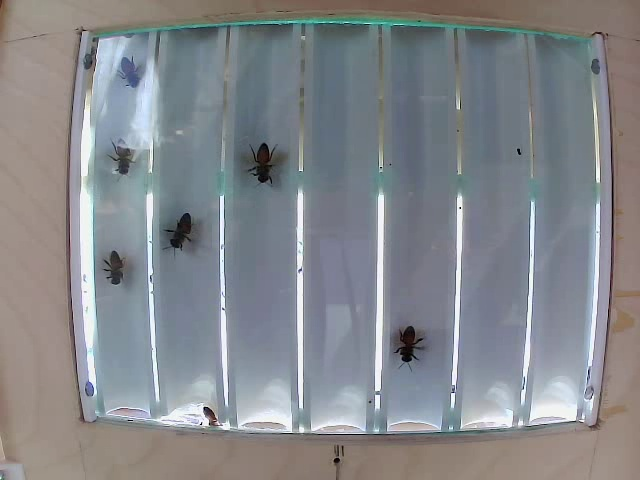bee: (158, 214, 216, 260), (244, 139, 290, 191), (394, 324, 430, 368), (119, 51, 157, 90), (105, 145, 134, 188), (86, 248, 127, 277)
